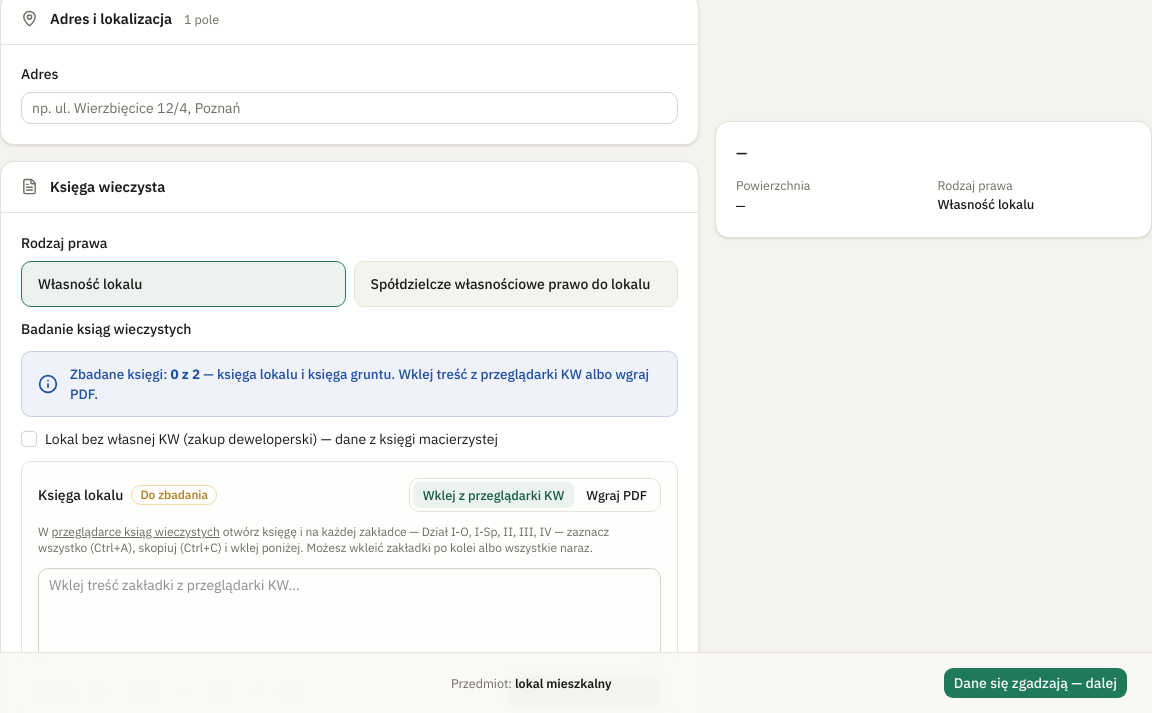
Test: SubjectForm — step 1 sidebar (Slice 12 Task 7) › reflects the typed address and area live in the sidebar summary tile
This screenshot has width=1152, height=713.
Type "ul. Sidebar 9, Poznań" into the dropdown labelled "Adres". click: (350, 108)
box: [21,92,678,124]
(page scrolled)
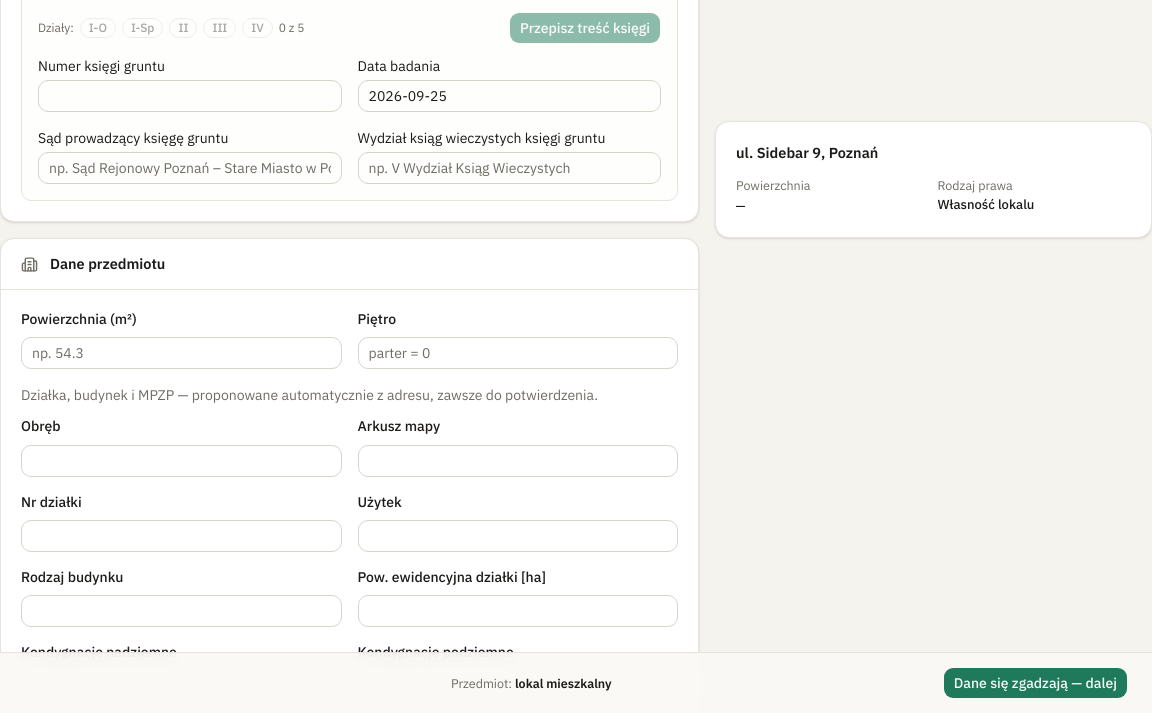
Type "54.3" into the number field labelled "Powierzchnia (m²)". click: (181, 353)
box: [21,337,342,369]
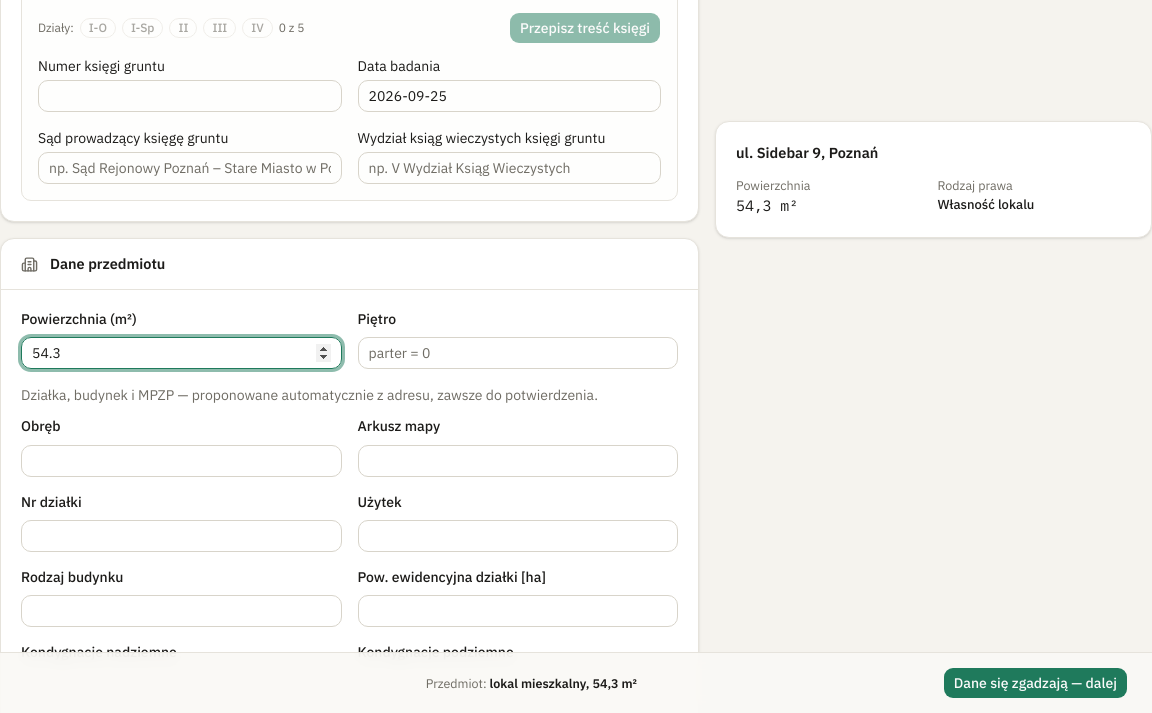
expect the text "ul. Sidebar 9, Poznań" is shown: met, box [736,143,878,162]
expect the text "54,3 m²" is shown: met, box [736,196,798,214]
